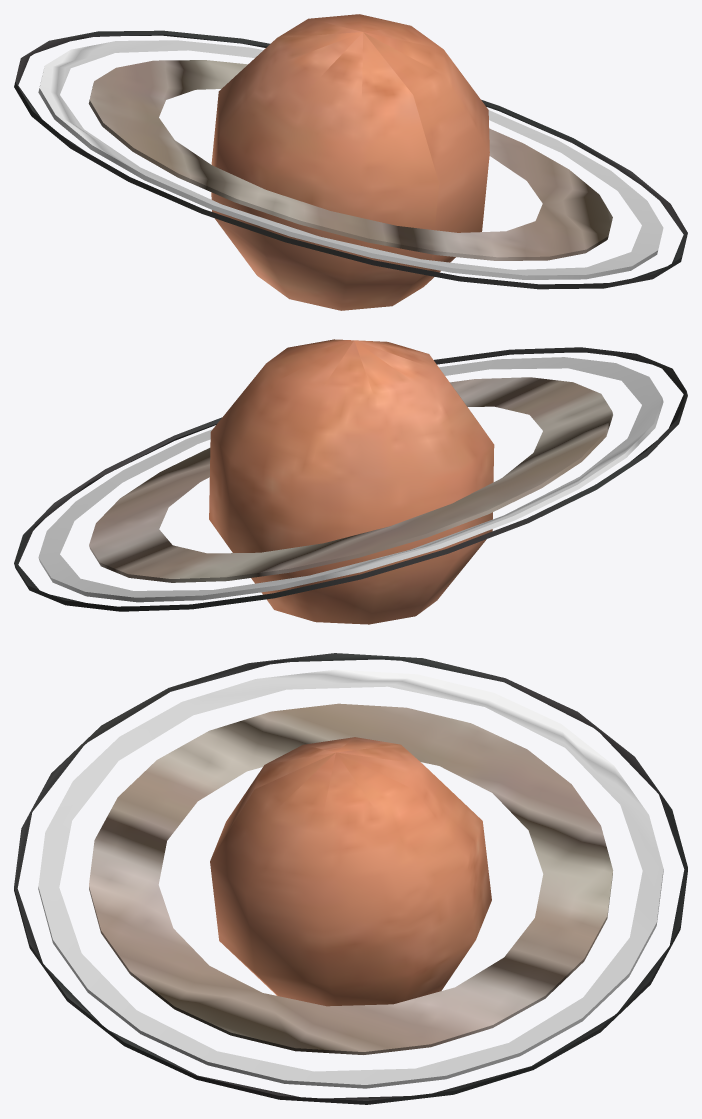
File: colony-planet-art.glb
3 views of the same model, one above another, from view 1: azimuth 30°, elevation 25°; view 2: azimuth 150°, elevation 25°; view 3: azimuth 270°, elevation 25° (orthographic). The views are drawn at different scales.
Visible parts, largest first — view 1: Colony_Planet_Art; view 2: Colony_Planet_Art; view 3: Colony_Planet_Art.
Boxes of the visible parts, box(x1,y1,x2,y2) form: Colony_Planet_Art: box(14, 14, 687, 310); Colony_Planet_Art: box(14, 339, 687, 624); Colony_Planet_Art: box(14, 653, 687, 1104).
Bounding box in the file's own units: 4.45 × 1.99 × 4.64.
Materials: 1 (1 with a texture image).
